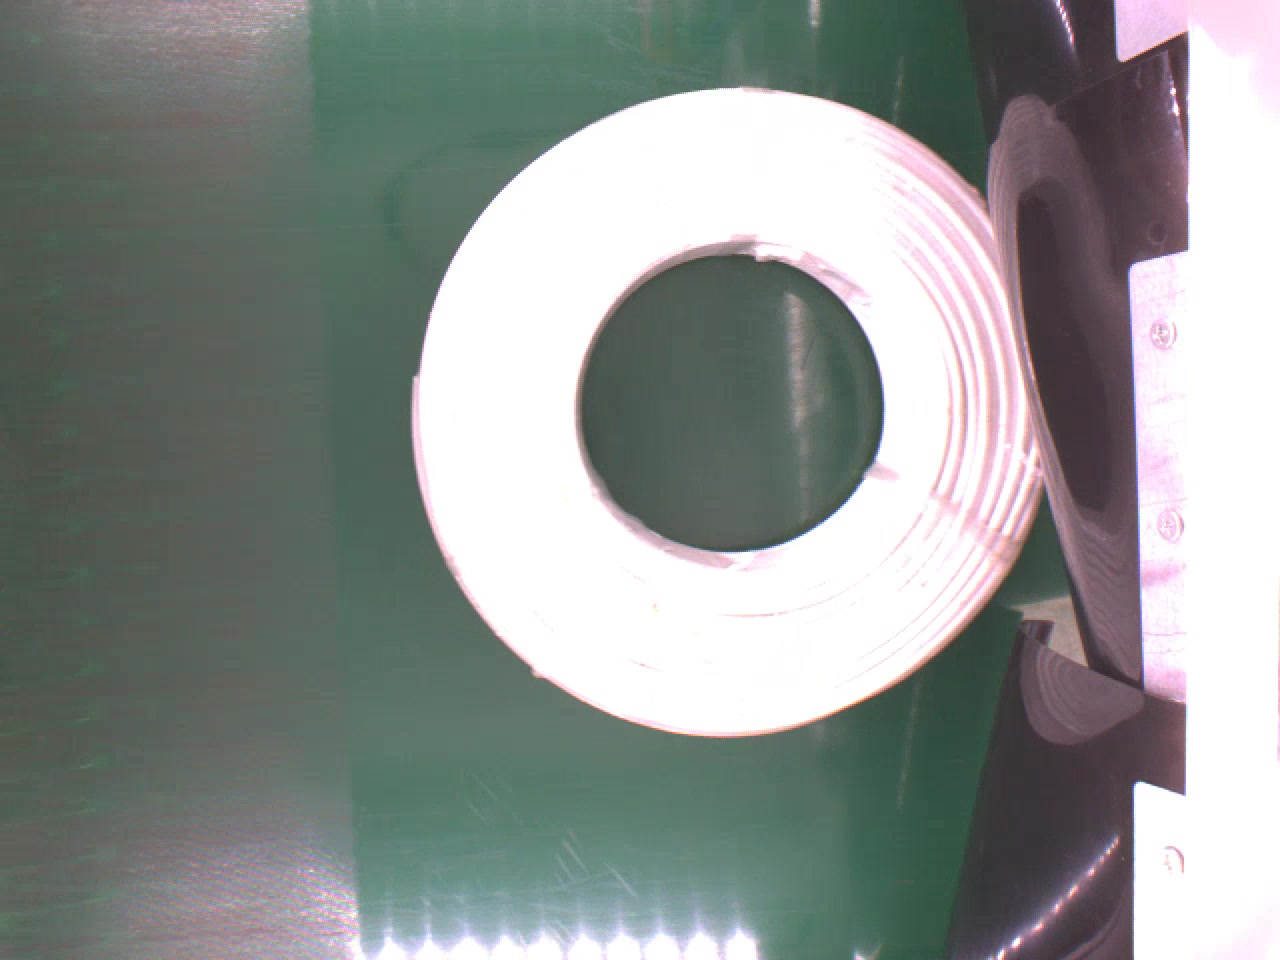white: (401, 84, 1056, 749)
